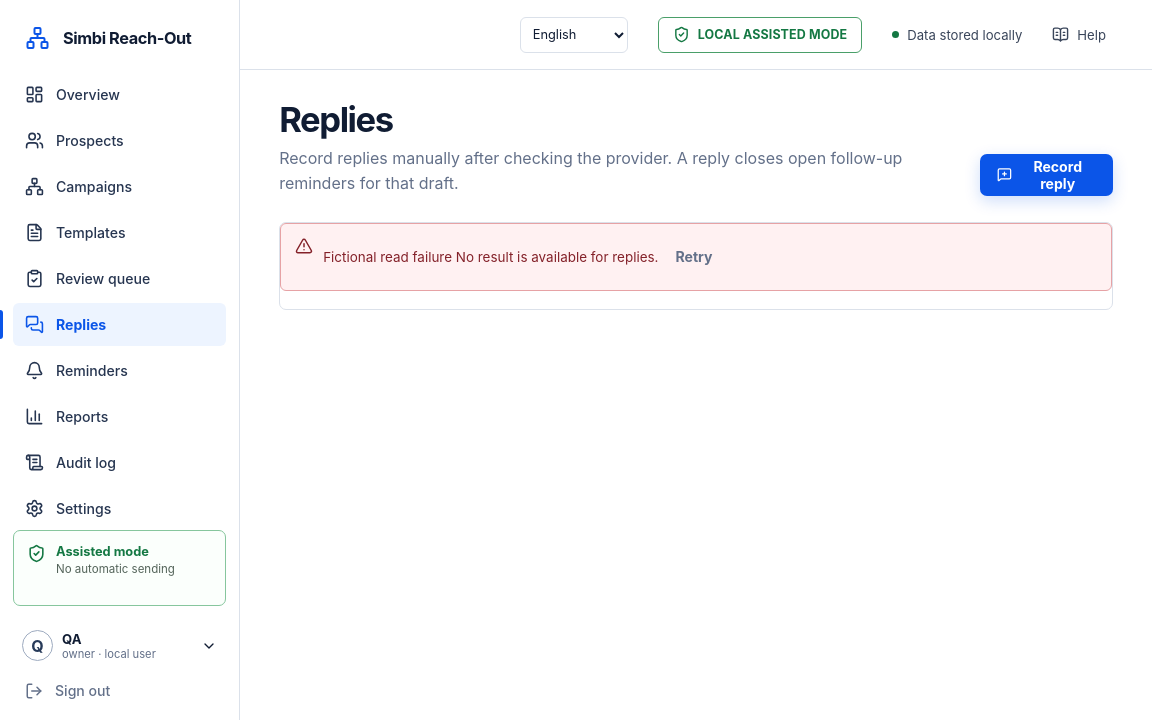
Test: truthful loading states on every operational route › /replies distinguishes failure from emptiness and can retry
Check: the text "Fictional read failure" is shown, box [323, 249, 452, 265]
Check: the text "No replies recorded" is not shown
Step 1. Click the button "Retry" → click(694, 257), box [658, 236, 730, 278]
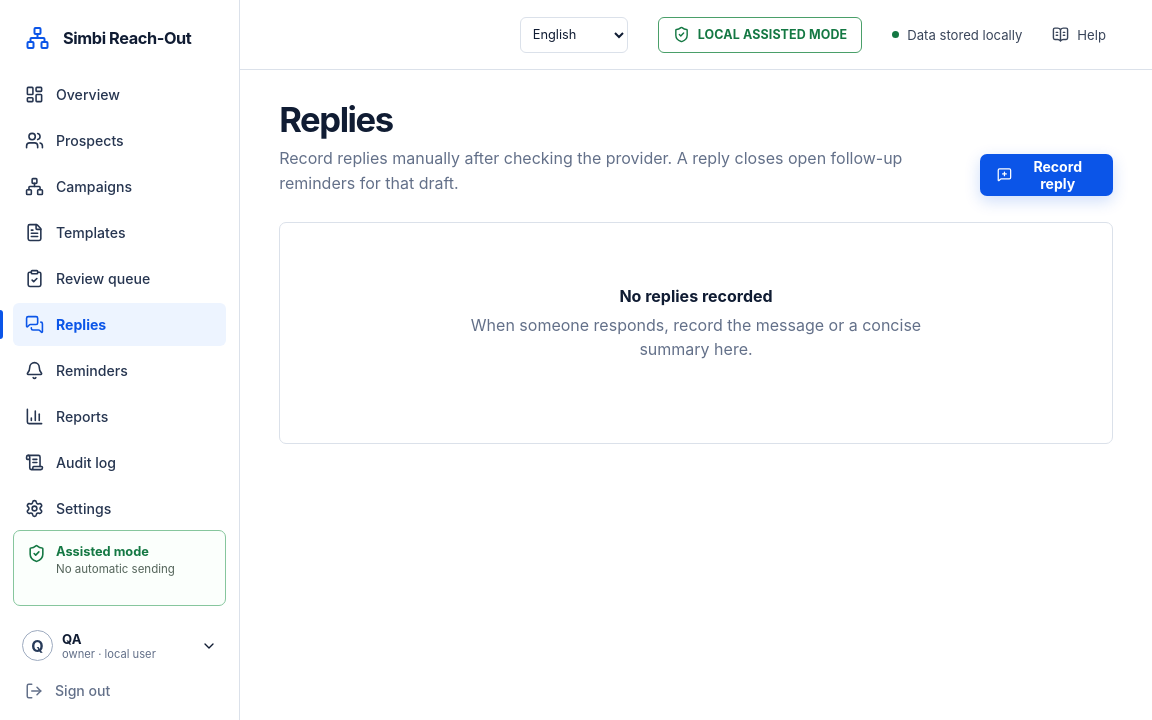
Check: the heading "No replies recorded" is shown, box [619, 286, 773, 306]
Check: the text "Fictional read failure" is gone
